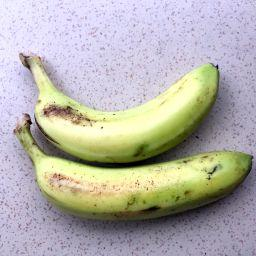banana: (10, 111, 256, 226), (16, 48, 222, 166)
